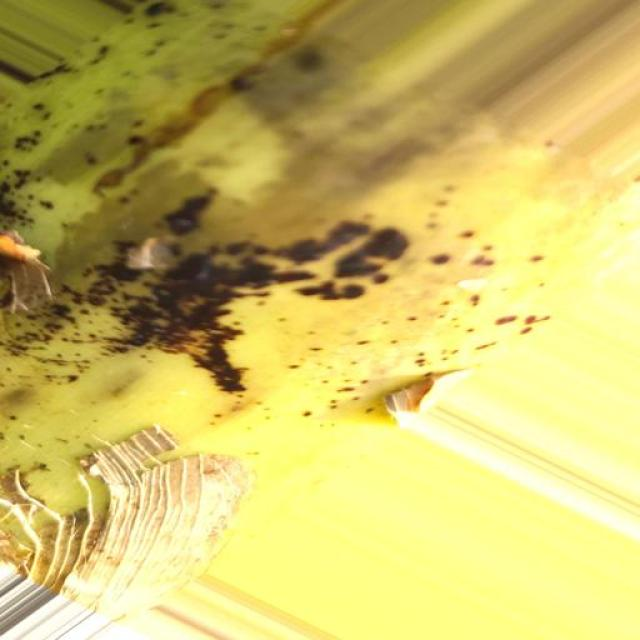Anthracnose: (2, 6, 640, 572)
